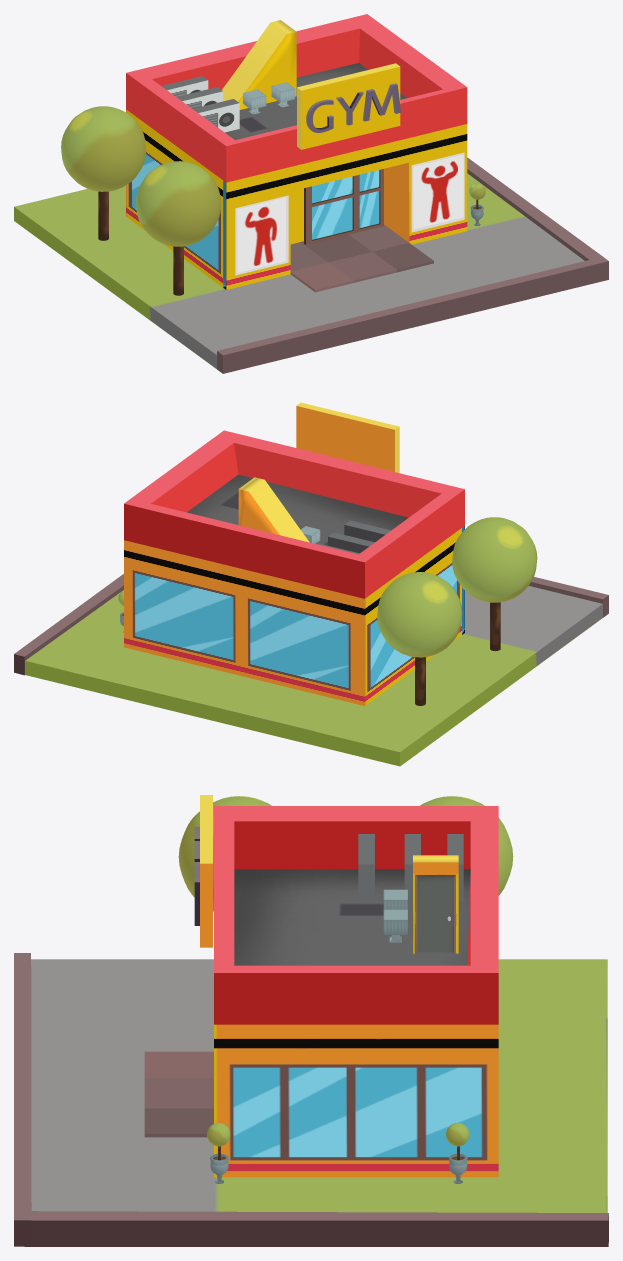
Rendered from gym.glb.
The picture shows the model from 3 angles, top to bottom: view 1: azimuth 30°, elevation 25°; view 2: azimuth 150°, elevation 25°; view 3: azimuth 270°, elevation 25°; orthographic projection. The views are drawn at different scales.
Parts seen in each view (by area): view 1: Gym_Asset; view 2: Gym_Asset; view 3: Gym_Asset.
Part boxes in pixels (x1,y1,x2,y2): Gym_Asset: [14, 14, 608, 373]; Gym_Asset: [14, 402, 608, 766]; Gym_Asset: [14, 795, 608, 1246].
Bounding box in the file's own units: 161 × 79.12 × 150.
1 material, 1 textured.
